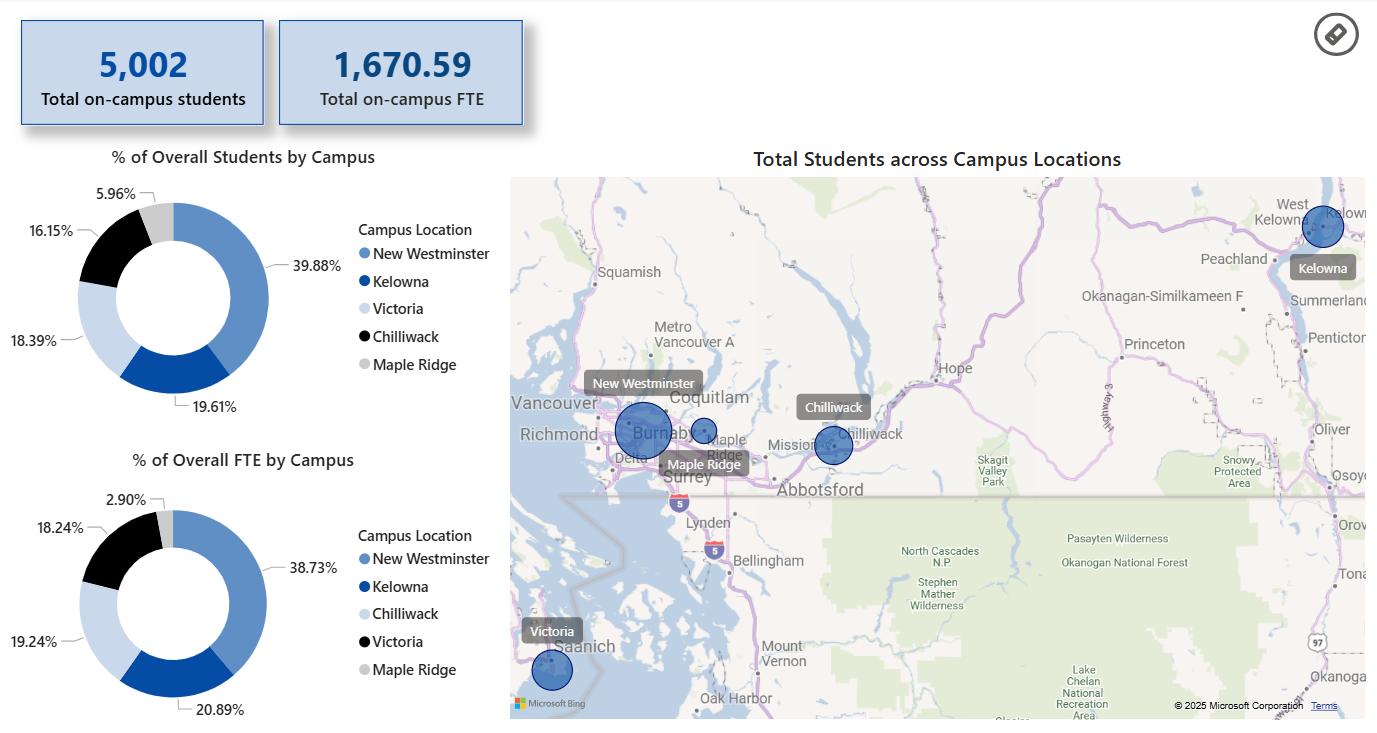

Layout of this report page (visuals, bound fields, positions):
{"tool":"powerbi","page":{"name":"Campus Contributions","canvas":[1280,720],"ordinal":1},"visuals":[{"type":"donutChart","title":"% of Overall Students by JIBC Campus","fields":{"Category":["JIBC_Enrolments_Paramedicine.Training_Location_Cleaned"],"Y":["Measure Table.Total on-campus students"]},"box":[0,135.9,478.3,264.8],"z":0},{"type":"donutChart","title":"% of Overall FTE by JIBC Campus","fields":{"Category":["JIBC_Enrolments_Paramedicine.Training_Location_Cleaned"],"Y":["Measure Table.Total on-campus FTE"]},"box":[0,413.1,478,264],"z":1000},{"type":"map","title":"Total Students JIBC Campus","fields":{"Category":["JIBC_Enrolments_Paramedicine.Training_Location_Cleaned"],"Size":["Measure Table.Total on-campus students"]},"box":[477.4,136.2,792.8,530.9],"z":2000},{"type":"image","box":[12.4,0,119.4,135.9],"z":3000},{"type":"cardVisual","fields":{"Data":["Measure Table.Total on-campus students"]},"box":[143.1,19,222.3,96.5],"z":4000},{"type":"cardVisual","fields":{"Data":["Measure Table.Total on-campus FTE"]},"box":[379.8,19.4,223.2,98.4],"z":5000},{"type":"actionButton","box":[1218.6,15.1,41.2,39.8],"z":6000}]}

Visuals, with their boxes on the page's 1280x720 design canvas (x1, y1, x2, y2). These are canvas units, not pixel positions in the 1377x733 screenshot, which may show the page scaled, cropped or inside an application window:
"% of Overall Students by JIBC Campus" donutChart: left=0, top=136, right=478, bottom=401
"% of Overall FTE by JIBC Campus" donutChart: left=0, top=413, right=478, bottom=677
"Total Students JIBC Campus" map: left=477, top=136, right=1270, bottom=667
image: left=12, top=0, right=132, bottom=136
cardVisual - Measure Table.Total on-campus students: left=143, top=19, right=365, bottom=116
cardVisual - Measure Table.Total on-campus FTE: left=380, top=19, right=603, bottom=118
actionButton: left=1219, top=15, right=1260, bottom=55
